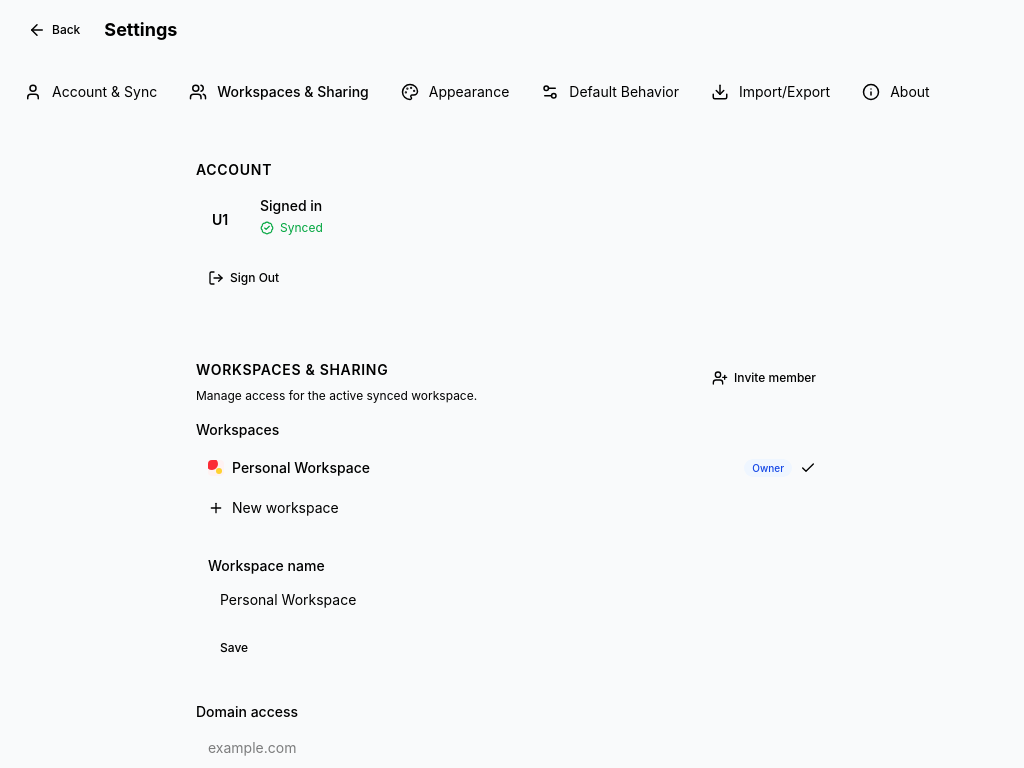
Test: SettingsScreen › allows owners to add and revoke domain access from sharing settings
The image size is (1024, 768).
Type "@Example.com" into the field named "Allowed email domain".
click(512, 748); type("@Example.com")  # box [196,730,828,766]
(page scrolled)
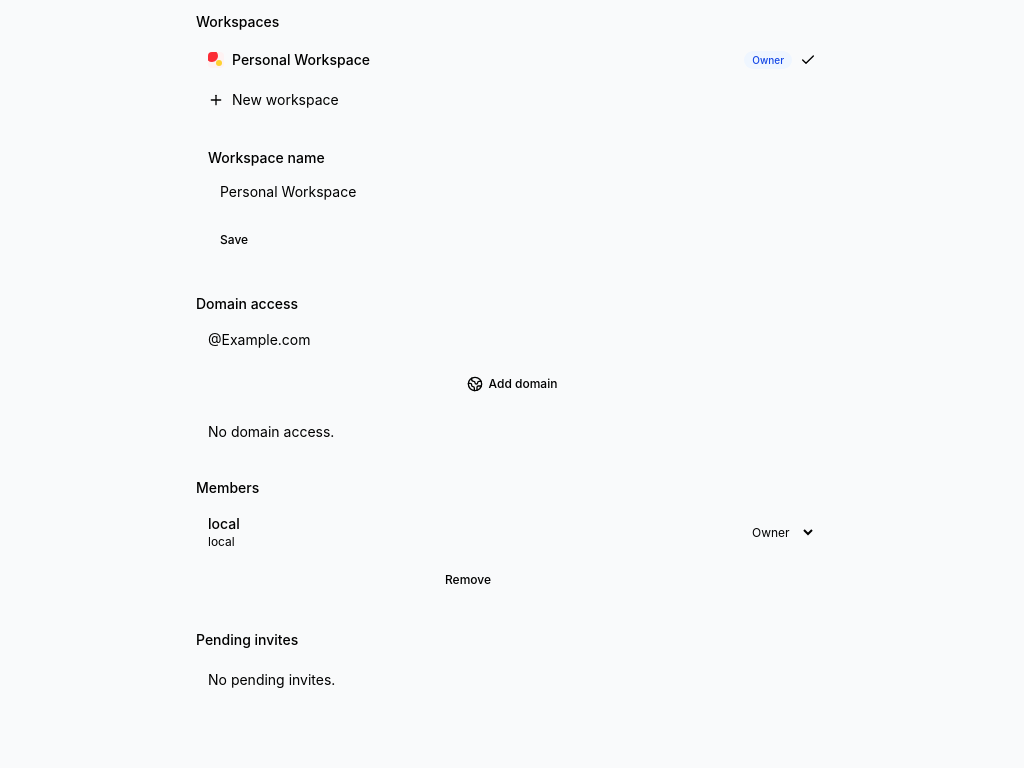
Click the button "Add domain".
click(512, 384)  # box [196,366,828,402]
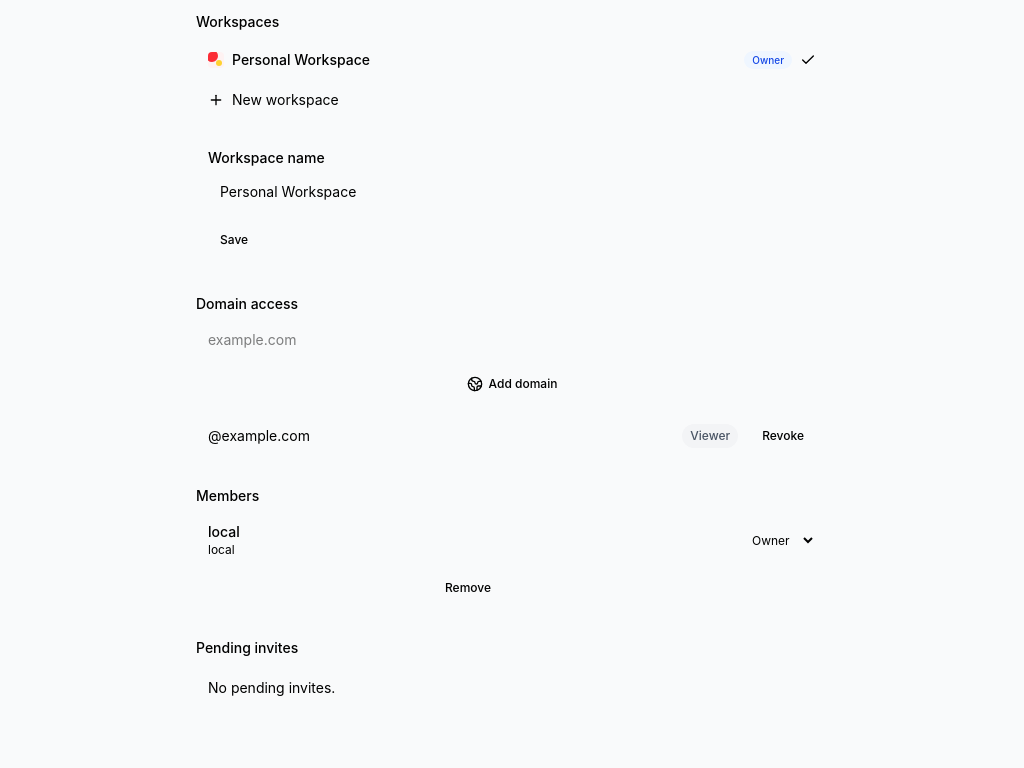
Expected: the text "@example.com" is shown, [208,427,310,444]
Click the button "Revoke".
click(783, 436)  # box [750,418,816,454]
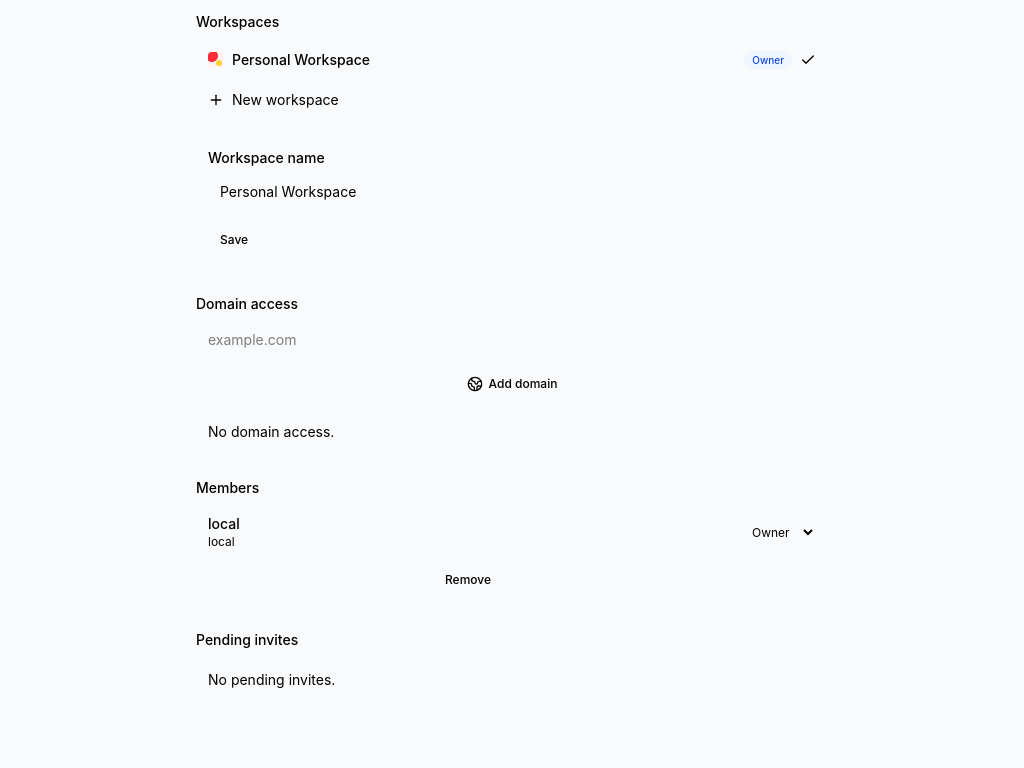
Expected: the text "@example.com" is gone
